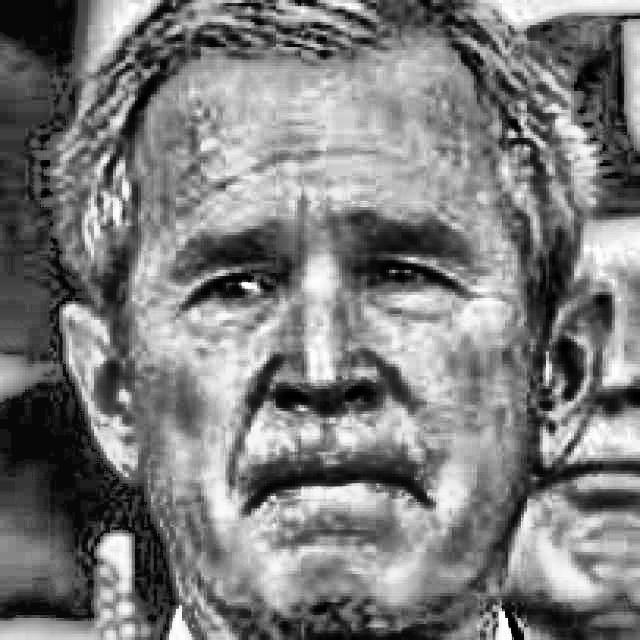sad: (160, 41, 530, 568)
